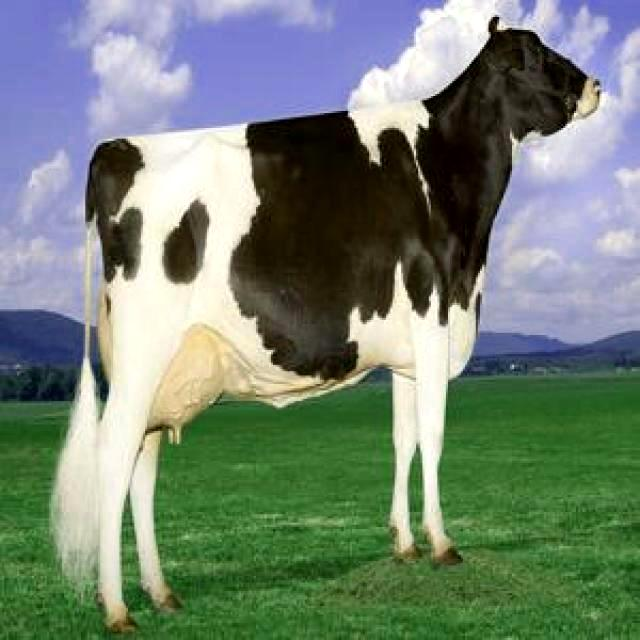COW: (55, 20, 599, 628)
